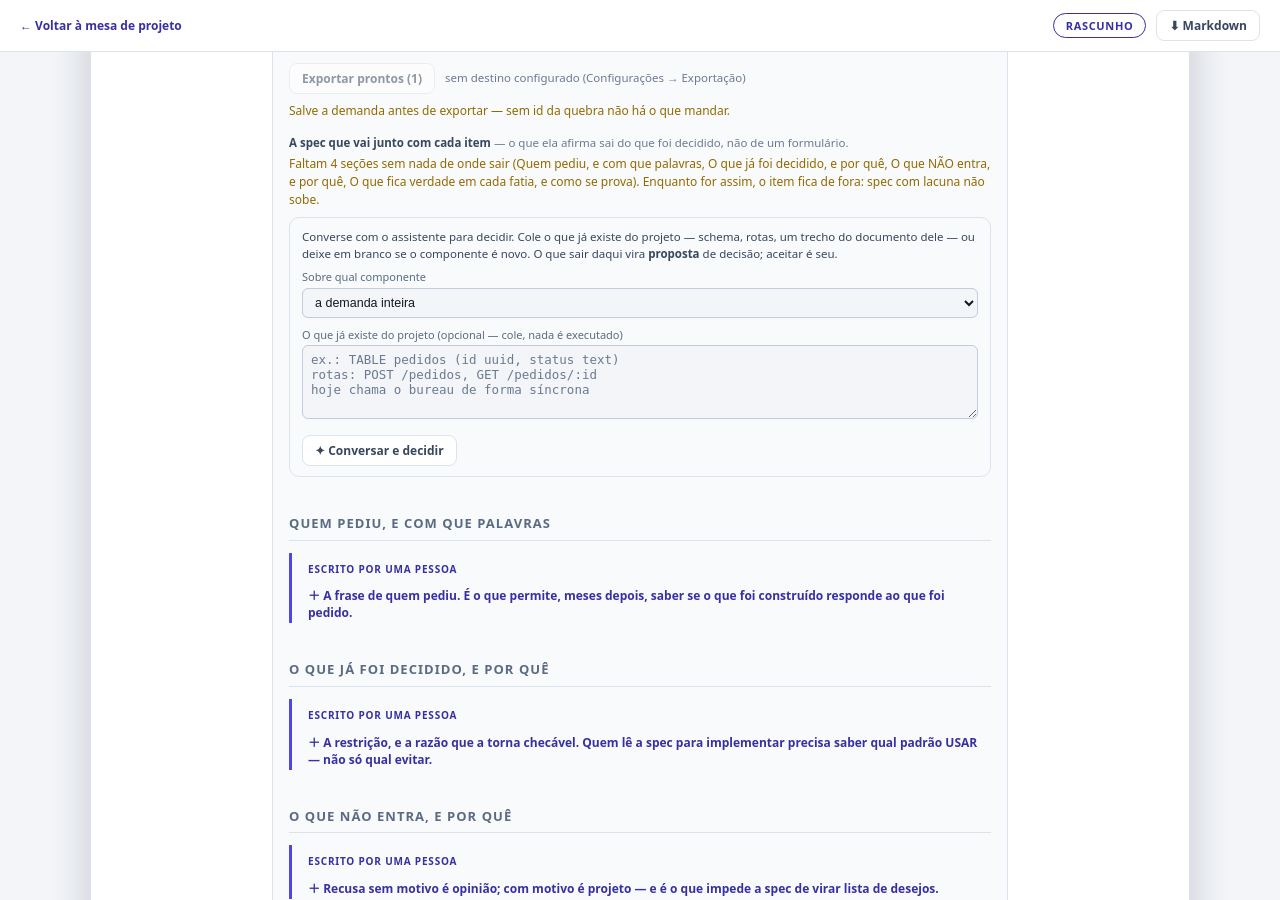
DocumentoScreen — a conversa que produz a spec (SPEC-115 fatia F) › o que volta é PROPOSTA, e a tela diz isso — aceitar é o próximo gesto, de gente
This screenshot has width=1280, height=900.
(page scrolled)
Step 1. Click the button with test id "conversar-sobre-a-spec" → point(379, 450), box [302,435,457,466]
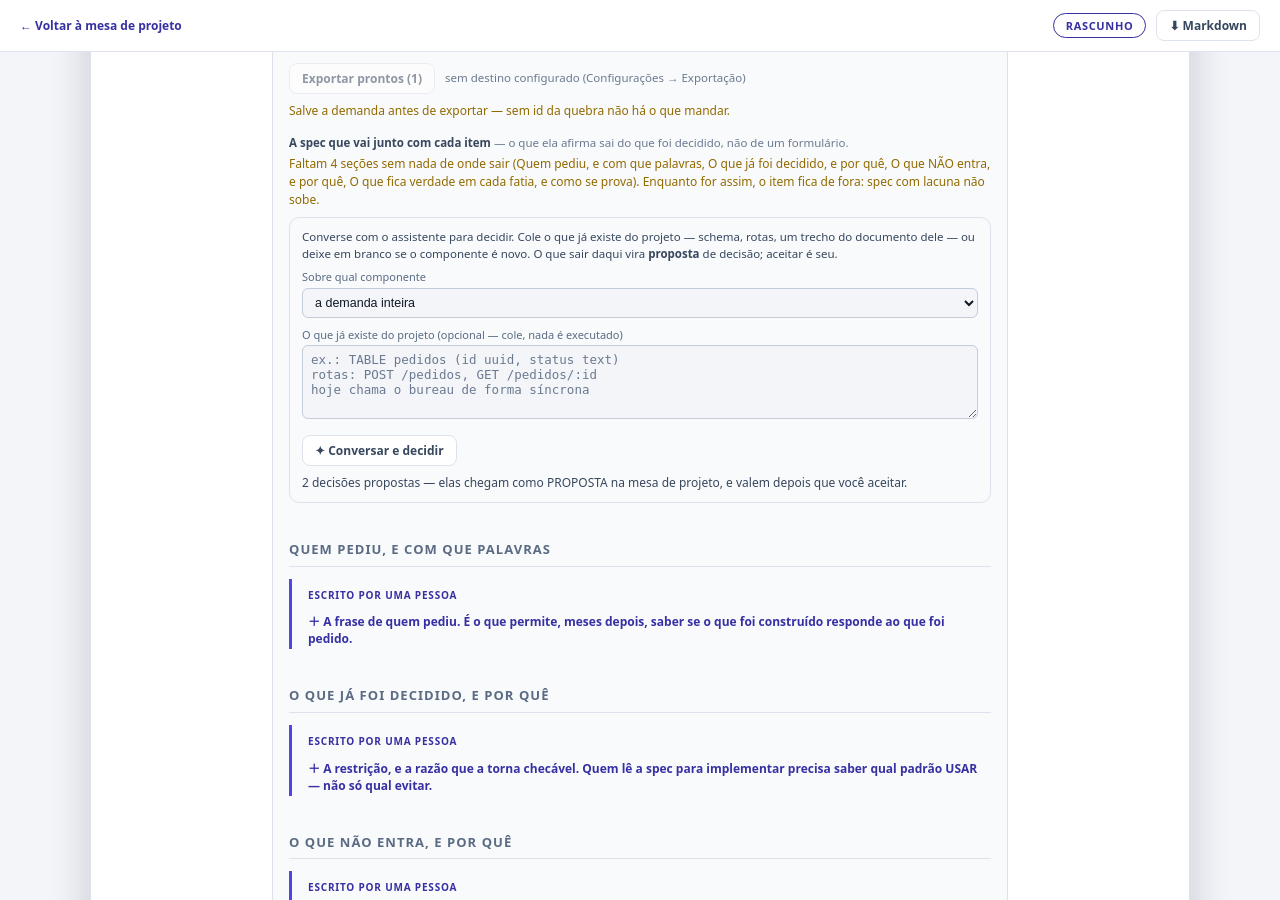
Expected: the text with test id "resposta-da-conversa" shows "2 decisões propostas", [302,474,907,491]
Expected: the text with test id "resposta-da-conversa" shows "valem depois que você aceitar", [302,474,907,491]
